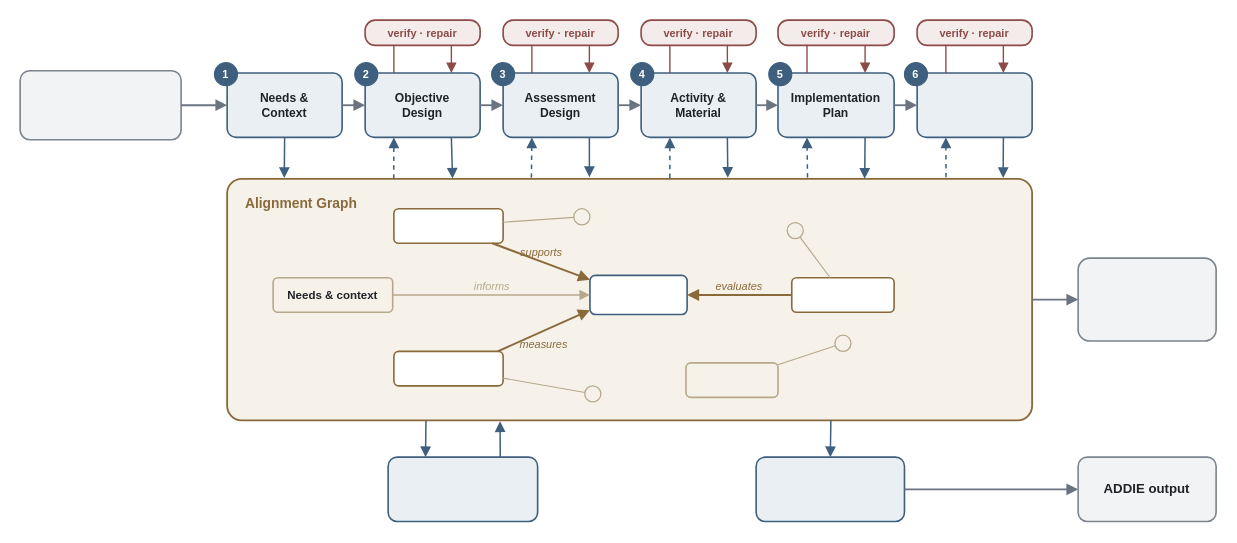
Image size: 1237x543. Some labels were removed from this diagram. The centre of each missing label's shape, as x and y in pixels:
Activity: [447,225]
Aggregator: [830,489]
Assessment: [447,368]
Design brief (ISD scenario) · b, budget K: [100,104]
Evaluation: [842,294]
Evaluation & Revision: [974,105]
Graph auditor: [462,489]
Graph dump (auditable): [1146,299]
Material: [731,379]
Objective: [638,294]
